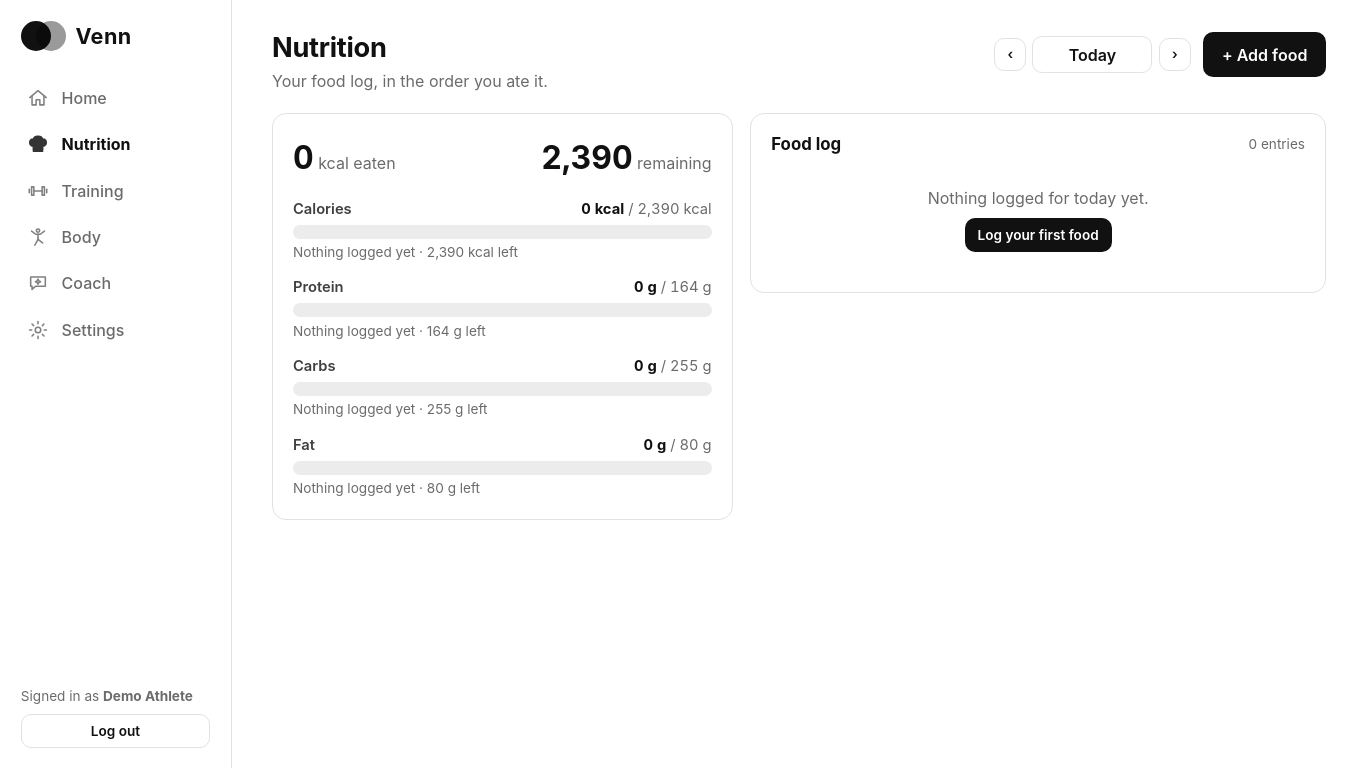
Test: add food flow › offers search or manual entry for an unknown barcode
Click the button "+ Add food" at (1265, 55), box [1203,32,1326,77]
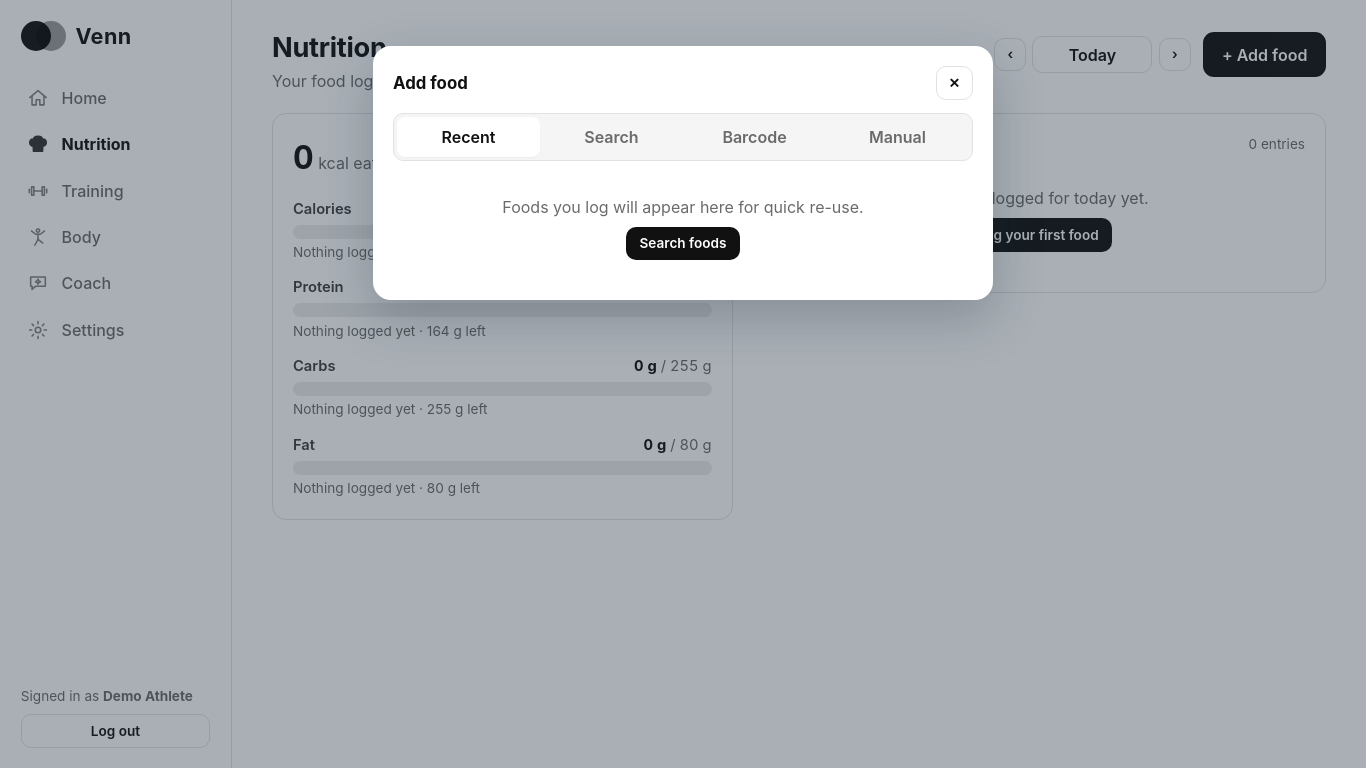
Click the tab "Barcode" at (754, 137), box [683,117,826,157]
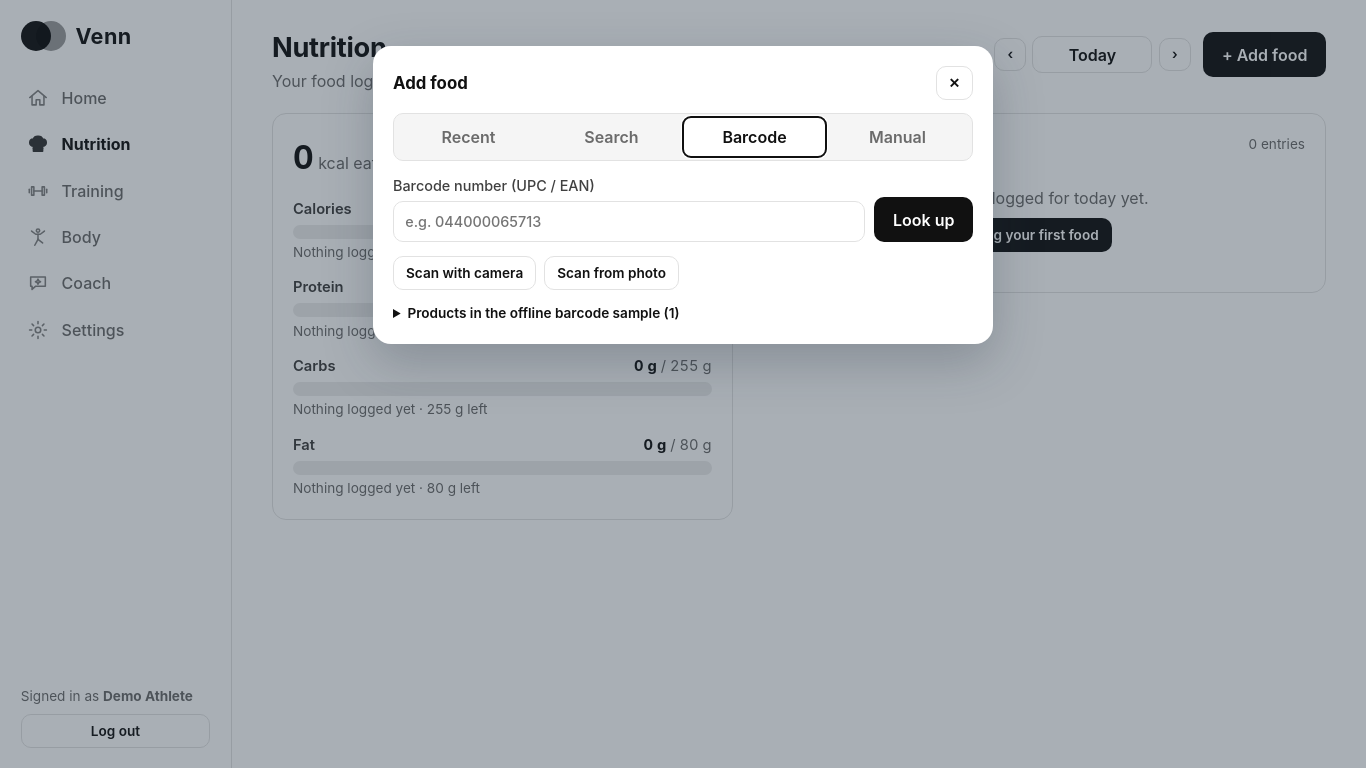
Type "036000291452" into the field with id "barcode" at (629, 222), box [393,201,865,242]
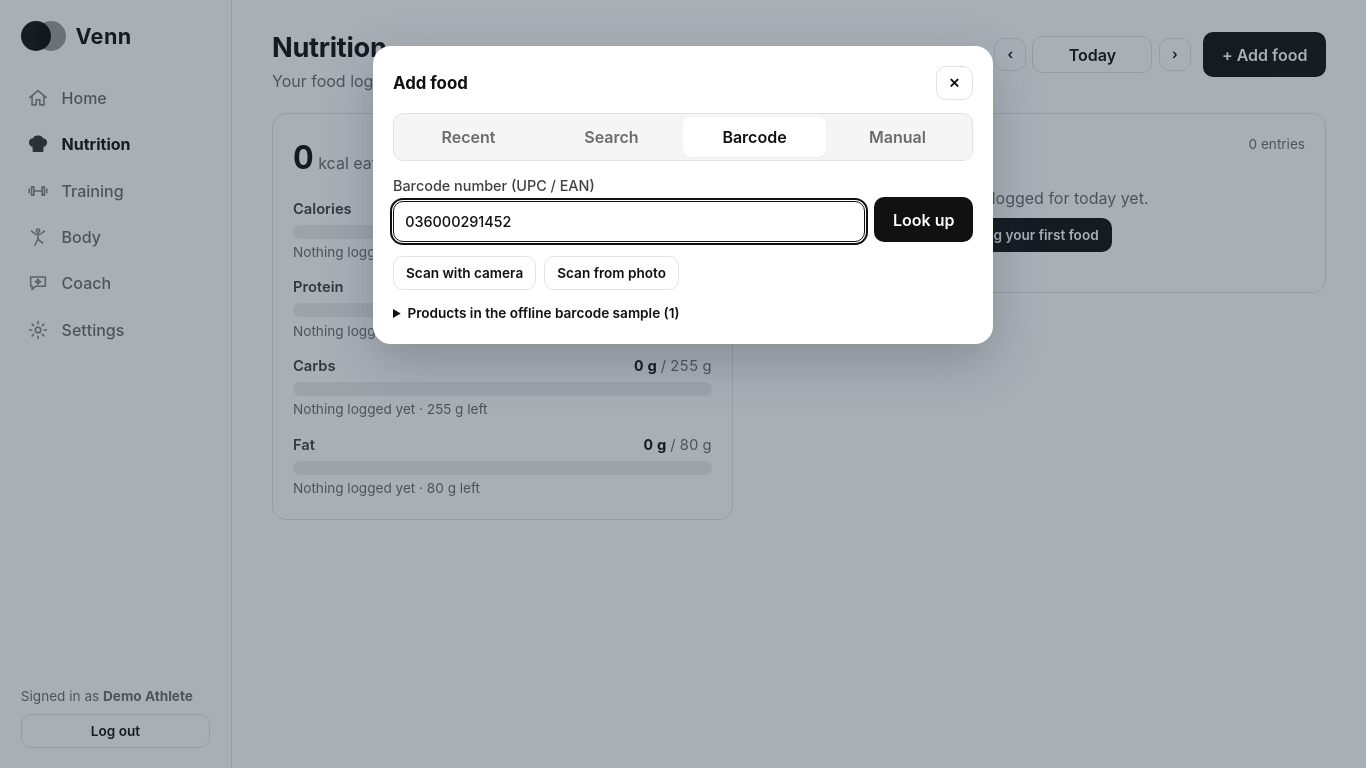
Click the button "Look up" at (924, 220), box [874,197,973,242]
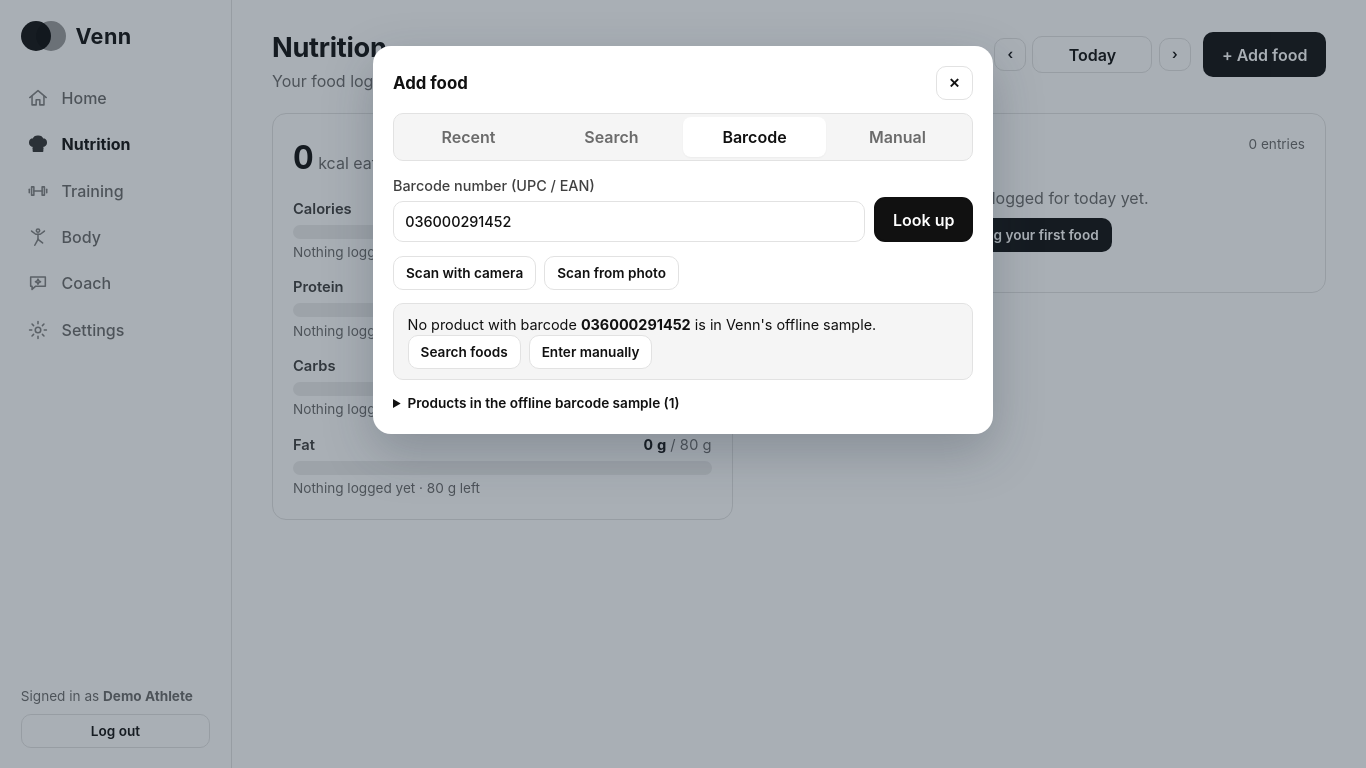
Result: the text "is in Venn's offline sample" is shown at [691,316,876,333]
Click the button "Enter manually" at (590, 352), box [529,335,652,369]
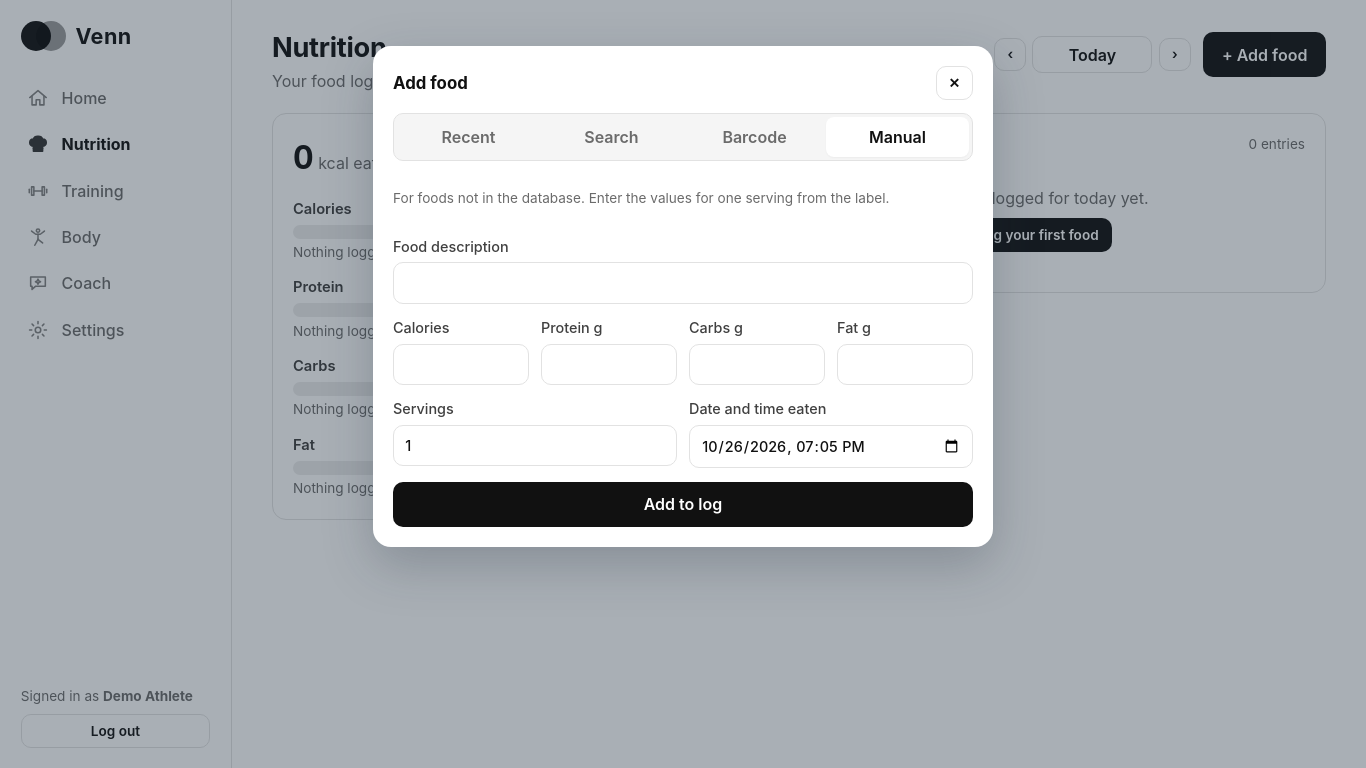
Result: the form named "Manual entry" is shown at [393,175,973,527]
